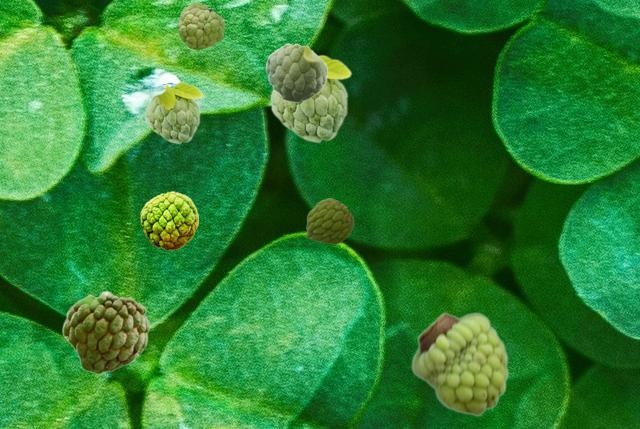atis: (411, 311, 508, 416), (61, 290, 149, 373), (269, 54, 351, 142), (265, 43, 327, 101), (144, 81, 202, 143), (140, 191, 197, 249), (306, 198, 352, 243), (178, 3, 223, 48)
